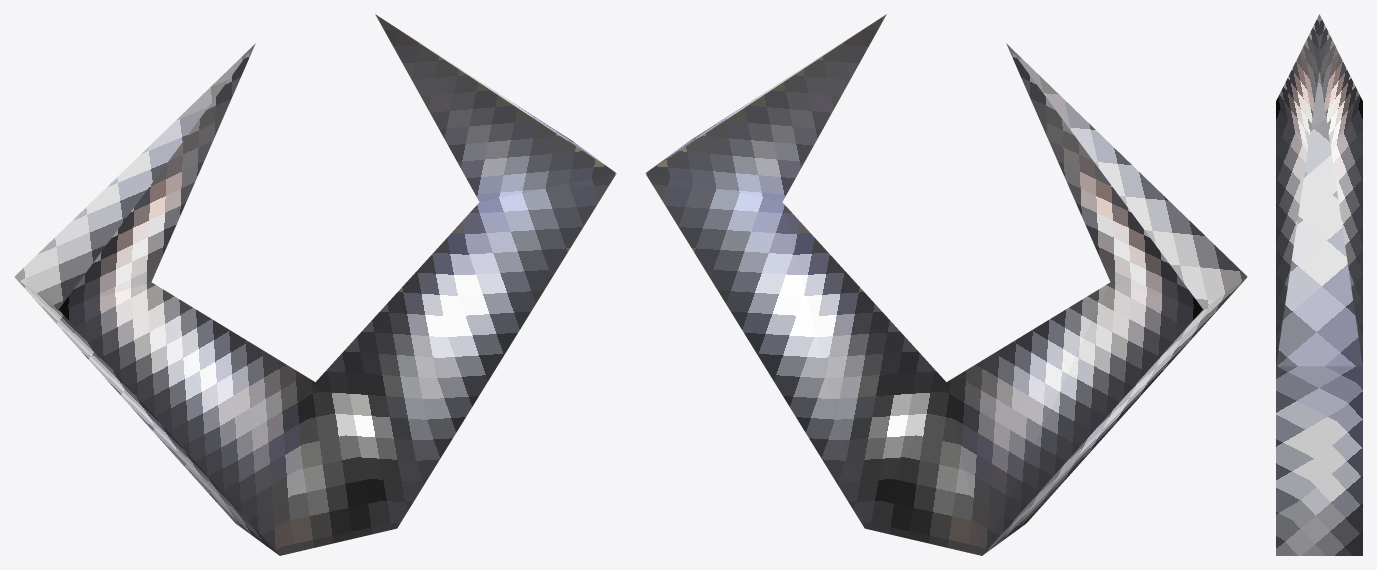
3 renders of one model, left to right at view 1: azimuth 30°, elevation 25°; view 2: azimuth 150°, elevation 25°; view 3: azimuth 270°, elevation 25°, orthographic. The views are drawn at different scales.
Parts seen in each view (by area): view 1: Box16; view 2: Box16; view 3: Box16.
Boxes of the visible parts, box(x1,y1,x2,y2) form: Box16: box(14, 14, 616, 555); Box16: box(645, 14, 1247, 555); Box16: box(1276, 14, 1362, 555).
Bounding box in the file's own units: 49.3 × 42.07 × 6.81.
1 material, 1 textured.
